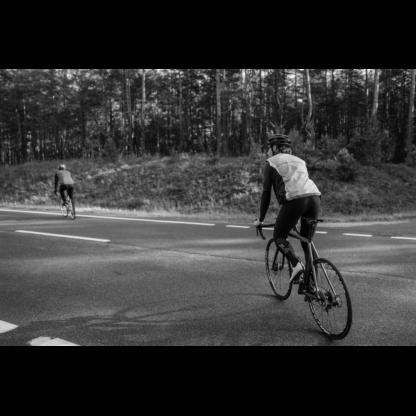Bicycle: (243, 210, 367, 347), (52, 186, 79, 224)
